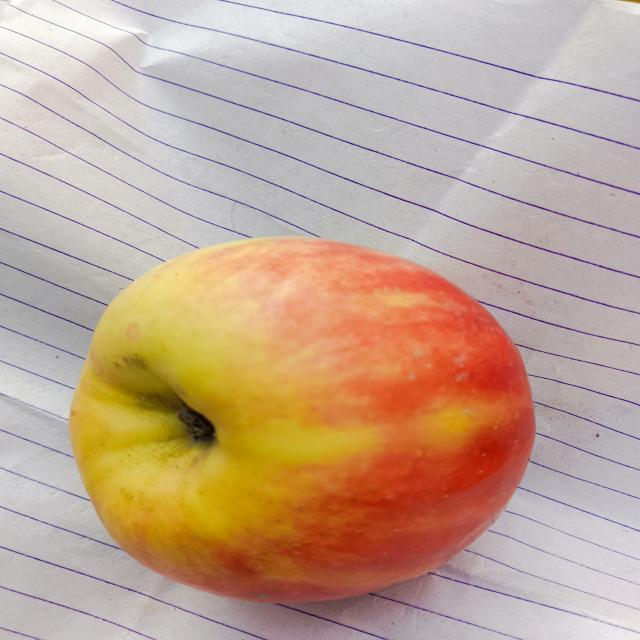Fresh Apple: (60, 238, 523, 602)
